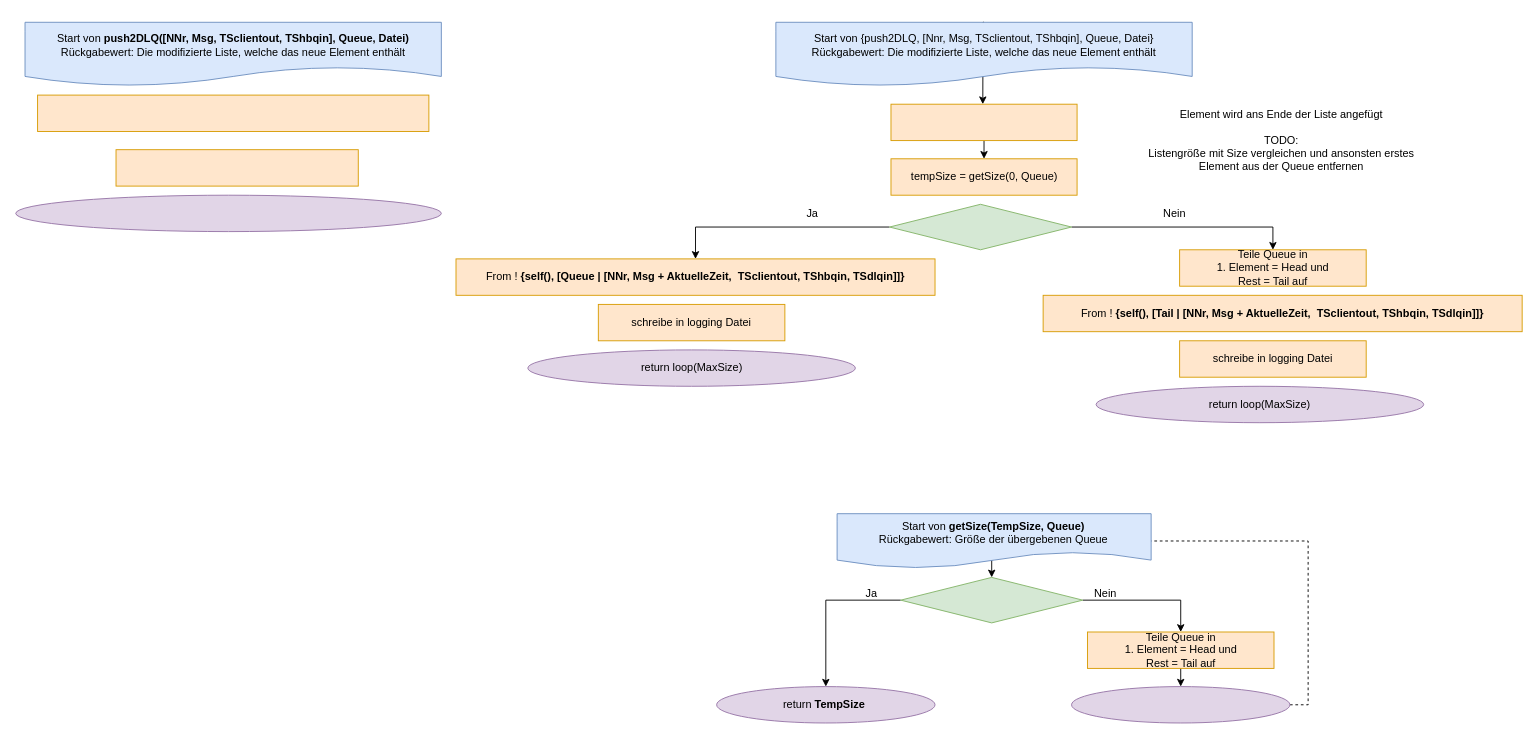
Image size: 1539x739. Some labels were removed from this diagram. The shapes that lost their labels are listed below. From the top down, each one's centre as x and y in pixels, then its label:
At [233,112]: "DlqPID ! {self(), {push2DLQ, [Nnr, Msg, TSclientout, TShbqin], Queue, Datei}}".
At [983,122]: "TSdlqin = erlang:timestamp()".
At [236,167]: "receive {Pid, newQueue}".
At [228,213]: "return newQueue".
At [980,226]: "tempSize < maxSize".
At [991,599]: "isEmpty(Queue)".
At [1180,704]: "return getSize(TempSize++, Tail)".
